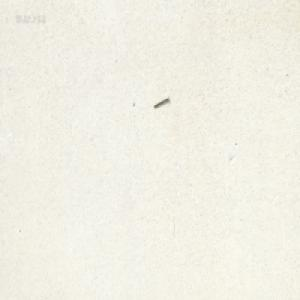Bolt: (152, 94, 168, 106)
